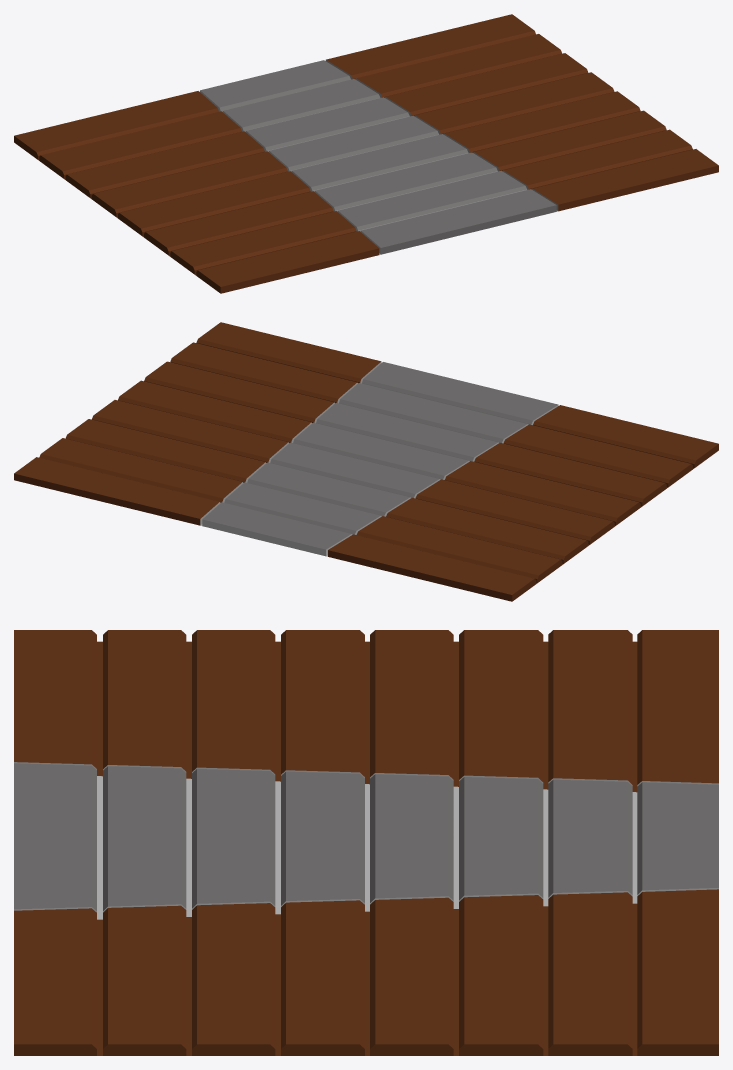
File: Level 2 End Floor.fbx
3 renders of one model, top to bottom at view 1: azimuth 30°, elevation 25°; view 2: azimuth 150°, elevation 25°; view 3: azimuth 270°, elevation 25°, orthographic. The views are drawn at different scales.
Parts seen in each view (by area): view 1: pPlane1; view 2: pPlane1; view 3: pPlane1.
Part boxes in pixels (box(x1,y1,x2,y2)): pPlane1: box(14, 14, 718, 293); pPlane1: box(14, 322, 718, 601); pPlane1: box(14, 630, 718, 1055).
Bounding box in the file's own units: 51.24 × 0.661 × 36.84.
